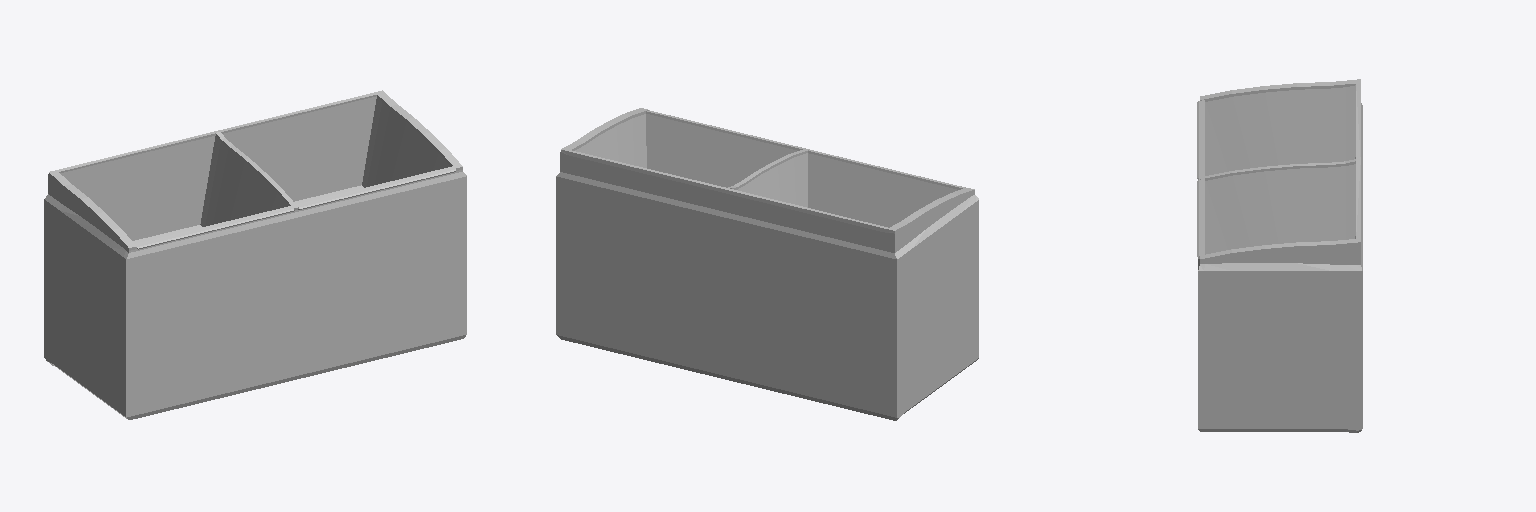
Rendered from Freezer.obj.
The picture shows the model from 3 angles: view 1: azimuth 30°, elevation 25°; view 2: azimuth 150°, elevation 25°; view 3: azimuth 270°, elevation 25°; orthographic projection.
Visible parts, largest first — view 1: Cube; view 2: Cube; view 3: Cube.
Part boxes in pixels (bbox=[...]): Cube: bbox=[44, 90, 466, 419]; Cube: bbox=[556, 108, 978, 420]; Cube: bbox=[1197, 79, 1362, 432].
Size of the model in its own units: 8.97 by 4.82 by 3.76.